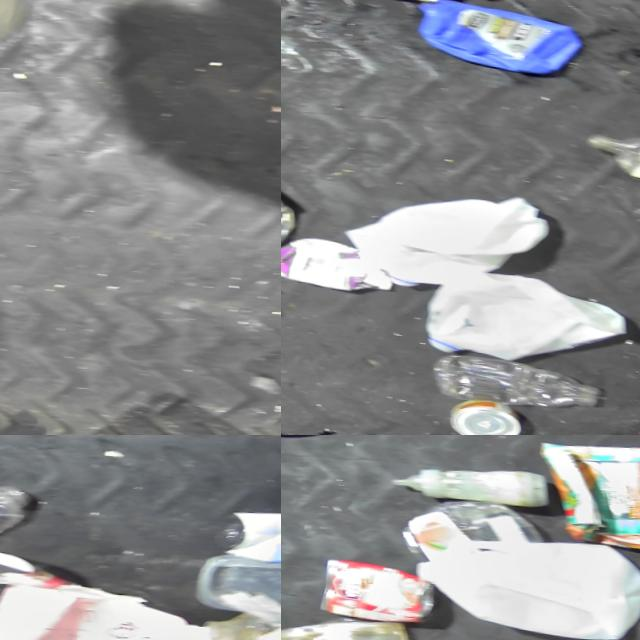can: (305, 548, 432, 627), (435, 393, 517, 435)
milk_jug: (404, 526, 640, 640), (330, 178, 553, 295), (409, 261, 624, 367)
non_white_jug: (406, 0, 587, 76)
plastic_bottle: (420, 348, 597, 409), (578, 121, 640, 195), (556, 415, 640, 435)
